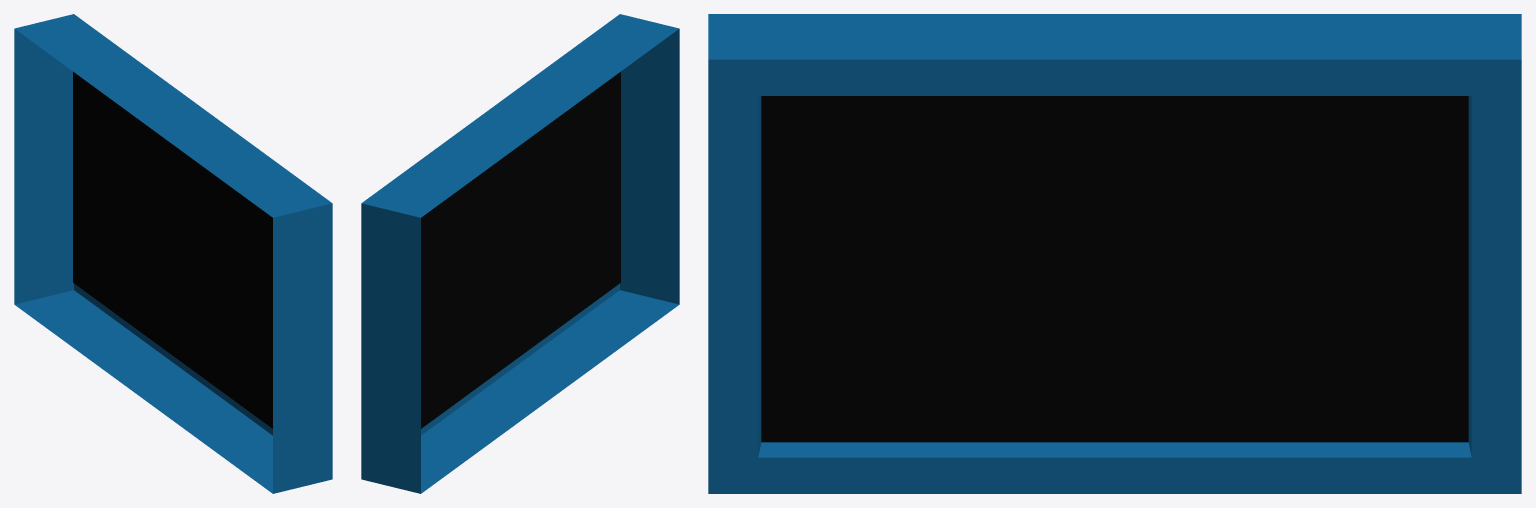
Rendered from PointsSign.fbx.
The picture shows the model from 3 angles, left to right: view 1: azimuth 30°, elevation 25°; view 2: azimuth 150°, elevation 25°; view 3: azimuth 270°, elevation 25°; orthographic projection. The views are drawn at different scales.
Visible parts, largest first — view 1: Cube.001; view 2: Cube.001; view 3: Cube.001.
Part boxes in pixels (left/top/right/bottom): Cube.001: left=14, top=14, right=332, bottom=493; Cube.001: left=361, top=14, right=679, bottom=493; Cube.001: left=708, top=14, right=1521, bottom=493.
Size of the model in its own units: 26.61 by 118 by 200.
